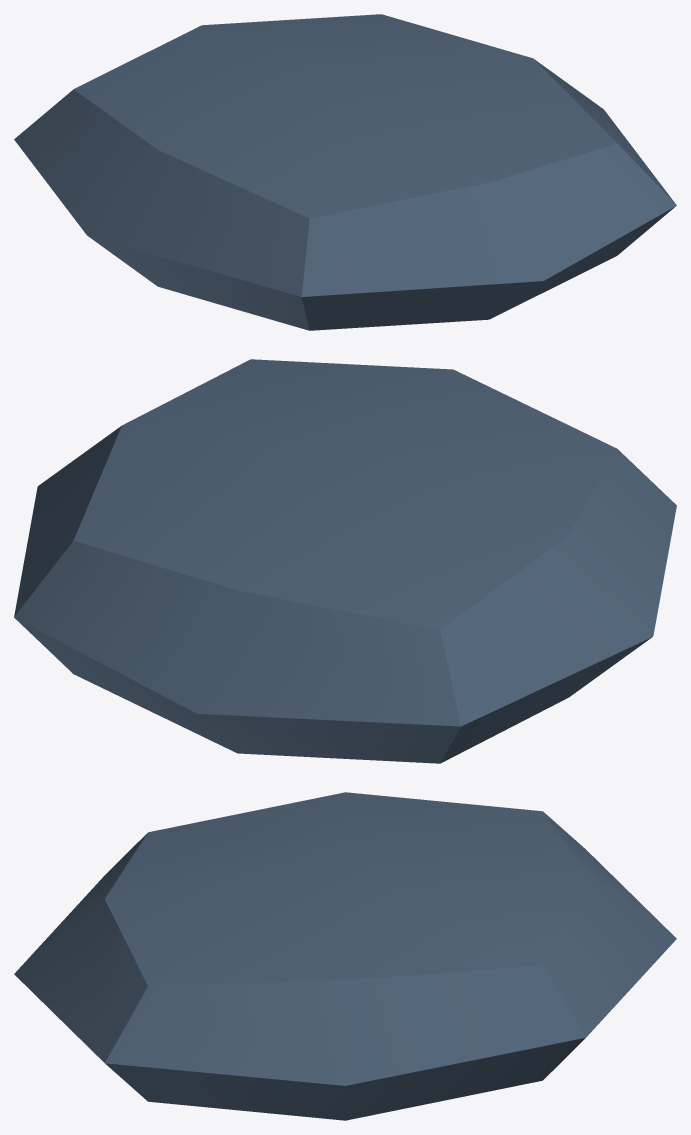
Rendered from pebble.fbx.
3 renders of one model, top to bottom at view 1: azimuth 30°, elevation 25°; view 2: azimuth 150°, elevation 25°; view 3: azimuth 270°, elevation 25°, orthographic. The views are drawn at different scales.
Parts seen in each view (by area): view 1: pebble; view 2: pebble; view 3: pebble.
Part boxes in pixels (x1,y1,x2,y2): pebble: (14, 14, 676, 330); pebble: (14, 359, 676, 763); pebble: (14, 792, 676, 1120).
Bounding box in the file's own units: 153 × 53.36 × 166.
